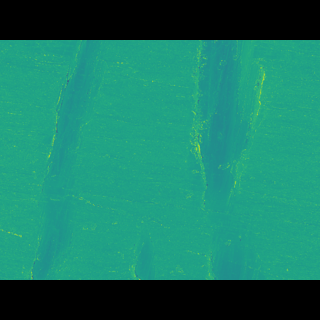Loch: (0, 70, 111, 250), (185, 69, 288, 250), (128, 208, 161, 250)
